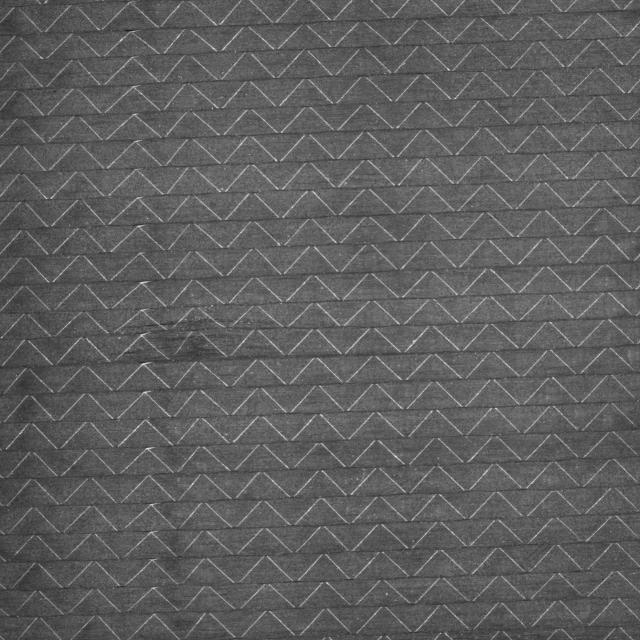carbon-fibre-defect: (101, 304, 282, 365)
